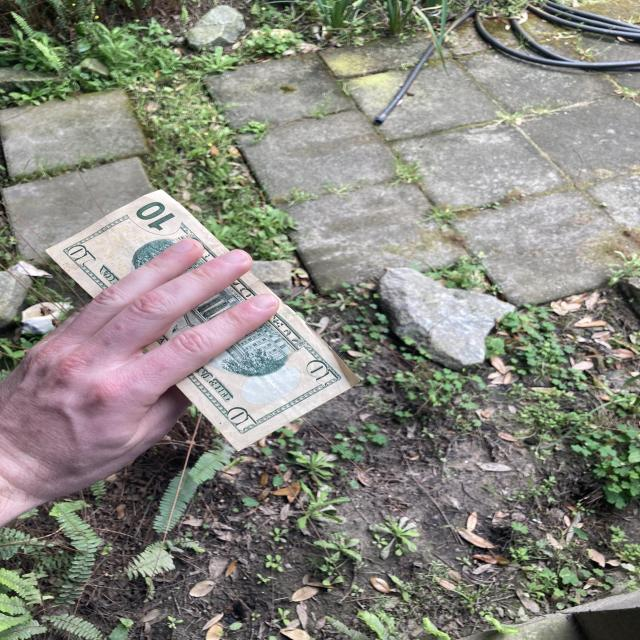ten: (39, 158, 364, 479)
